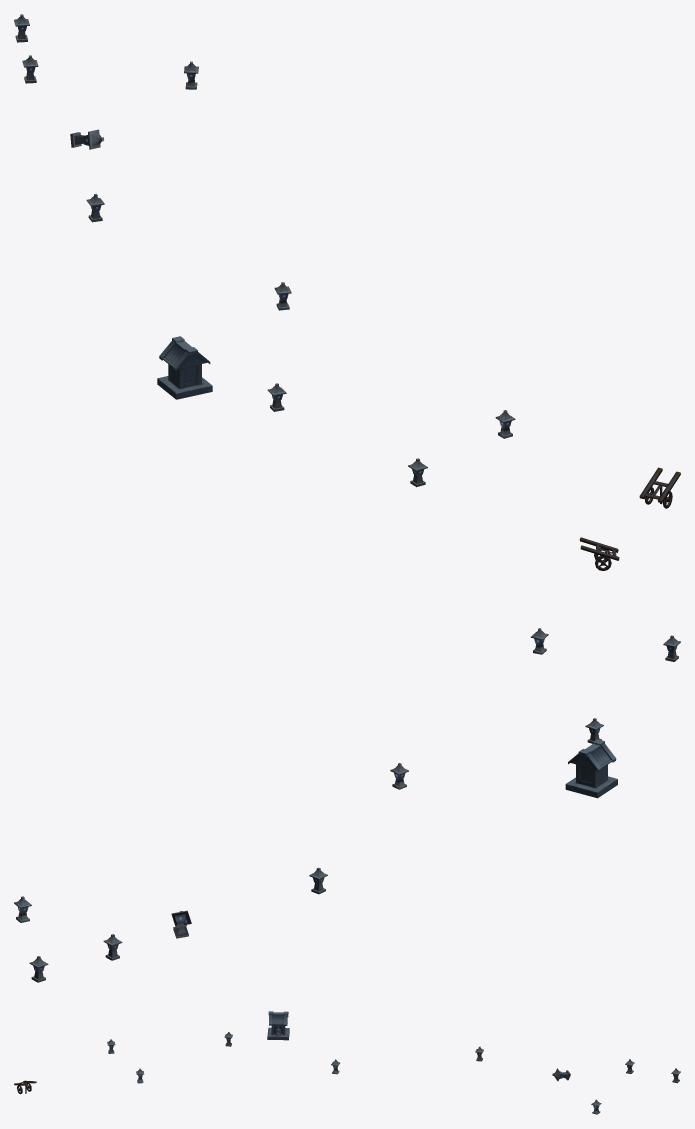
Rendered from xiaowujiao03.fbx.
The picture shows the model from 3 angles, top to bottom: view 1: azimuth 30°, elevation 25°; view 2: azimuth 150°, elevation 25°; view 3: azimuth 270°, elevation 25°; orthographic projection. The views are drawn at different scales.
Visible parts, largest first — view 1: xiaowujiao03; view 2: xiaowujiao03; view 3: xiaowujiao03.
Boxes of the visible parts, left/top/right/bottom form: xiaowujiao03: left=14, top=14, right=680, bottom=508; xiaowujiao03: left=14, top=537, right=680, bottom=982; xiaowujiao03: left=14, top=1011, right=680, bottom=1114.
Size of the model in its own units: 3619 by 475 by 11848.
